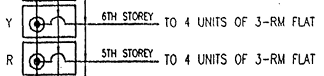Single Phase Tap-Off Unit: (19, 40, 81, 76), (19, 3, 78, 40)
